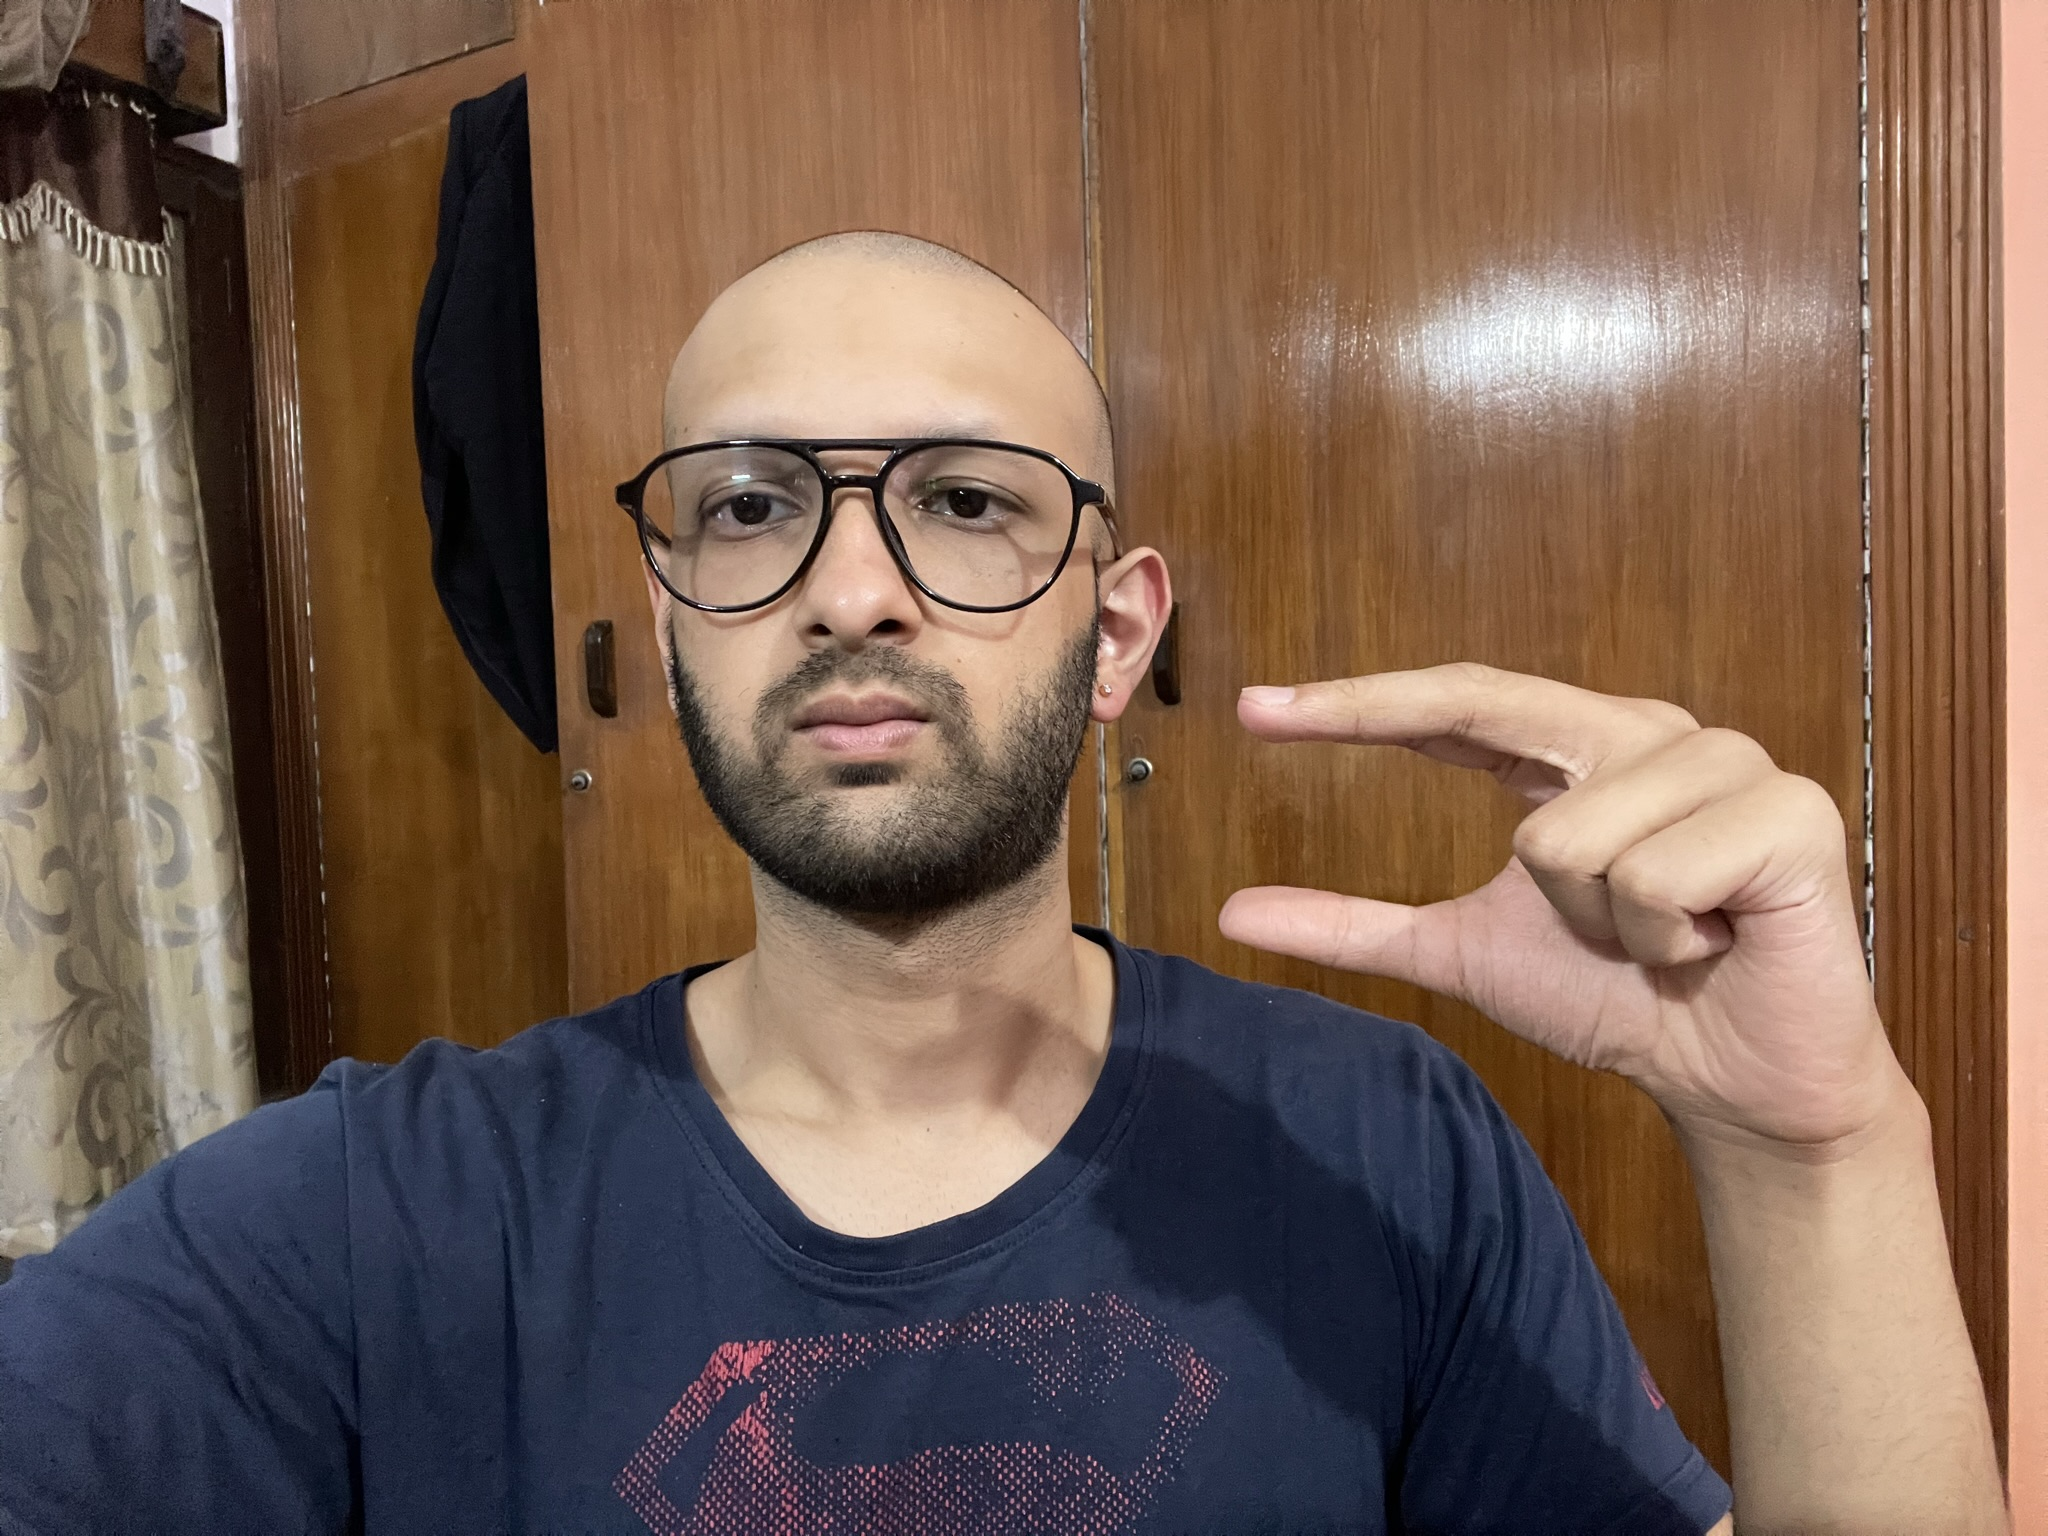No: (1214, 650, 1892, 1147)
